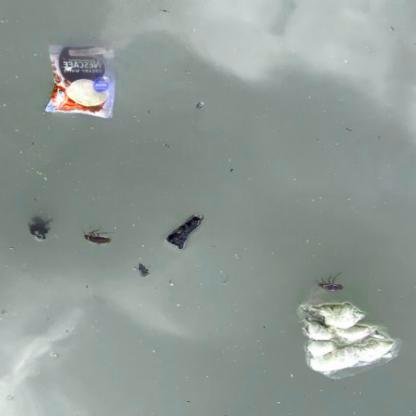Trash: (297, 296, 397, 377), (42, 41, 115, 121)
